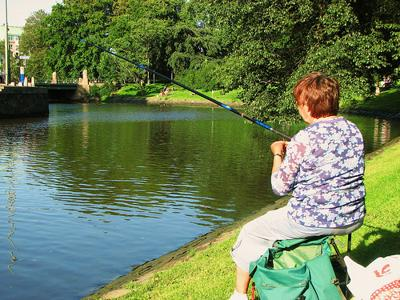person: (229, 72, 366, 300)
